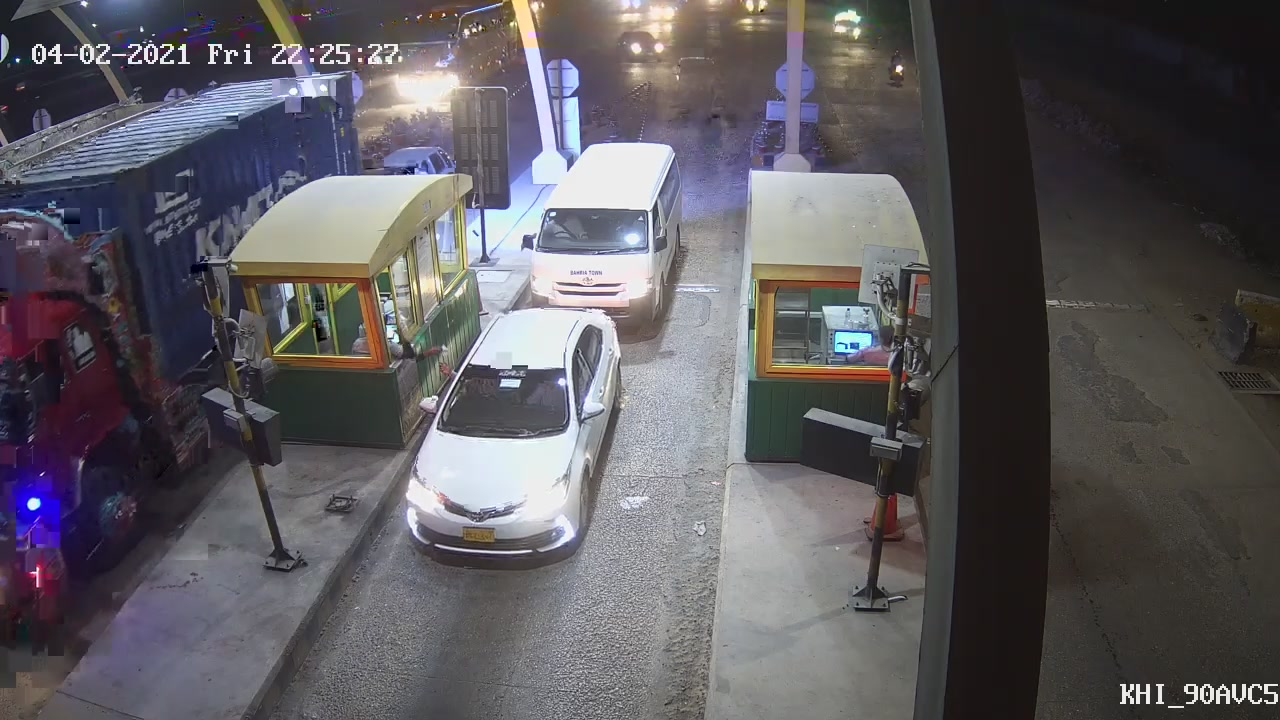F1: (403, 301, 626, 565)
